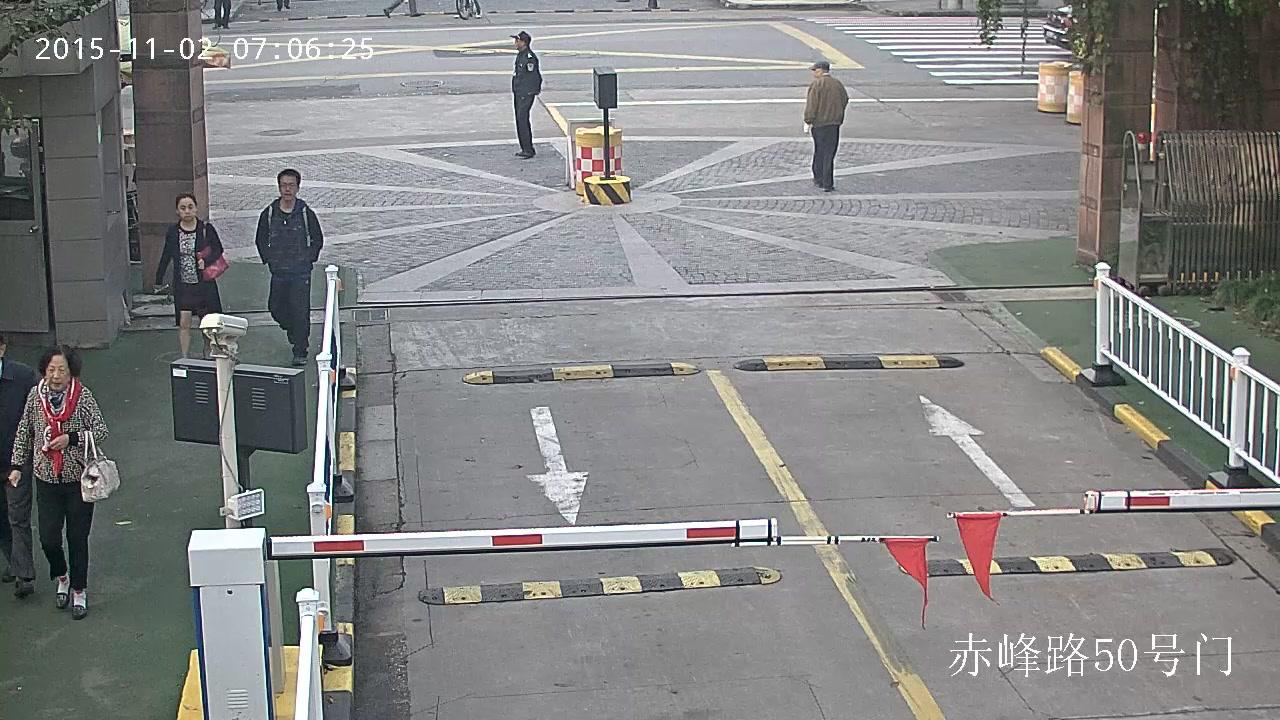face: (46, 354, 69, 390), (280, 174, 297, 199), (179, 198, 194, 219), (515, 38, 522, 50), (813, 67, 820, 77)
